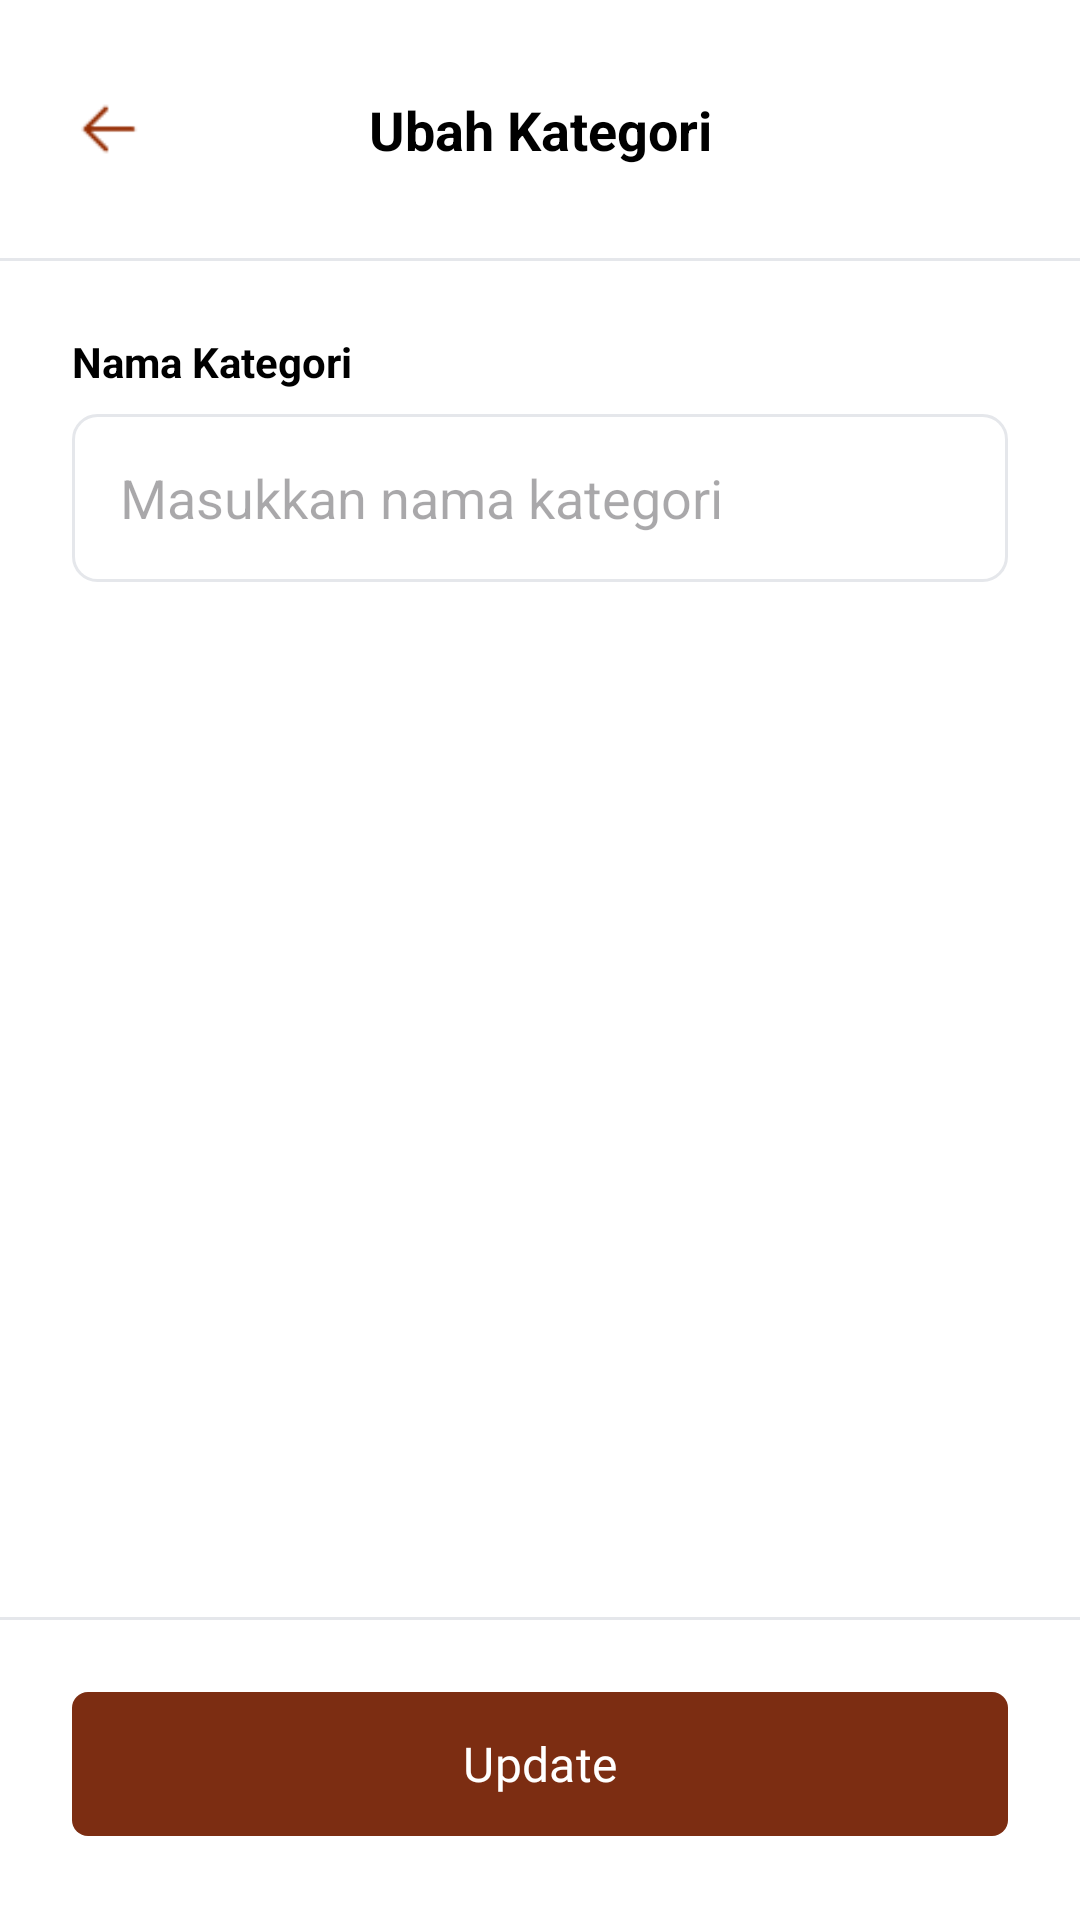

Locate icon controls on the screen. Image size 1080w x 1920h, boxes as (x1, y1, x2, y2).
back: (82, 105, 136, 153)
